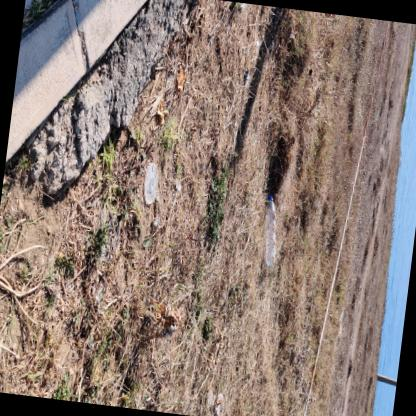Plastic: (264, 195, 274, 266), (142, 162, 157, 204), (288, 33, 292, 38), (267, 195, 270, 199)
Waste: (338, 308, 342, 333), (243, 68, 249, 84)
